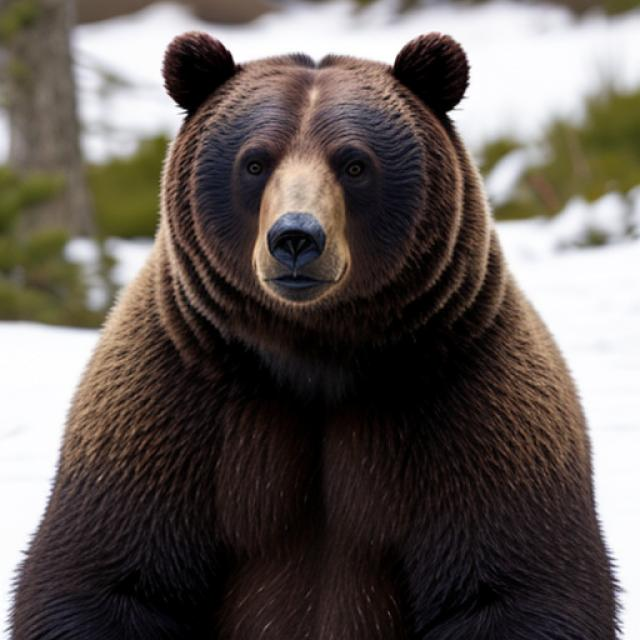bear: (87, 32, 585, 640)
